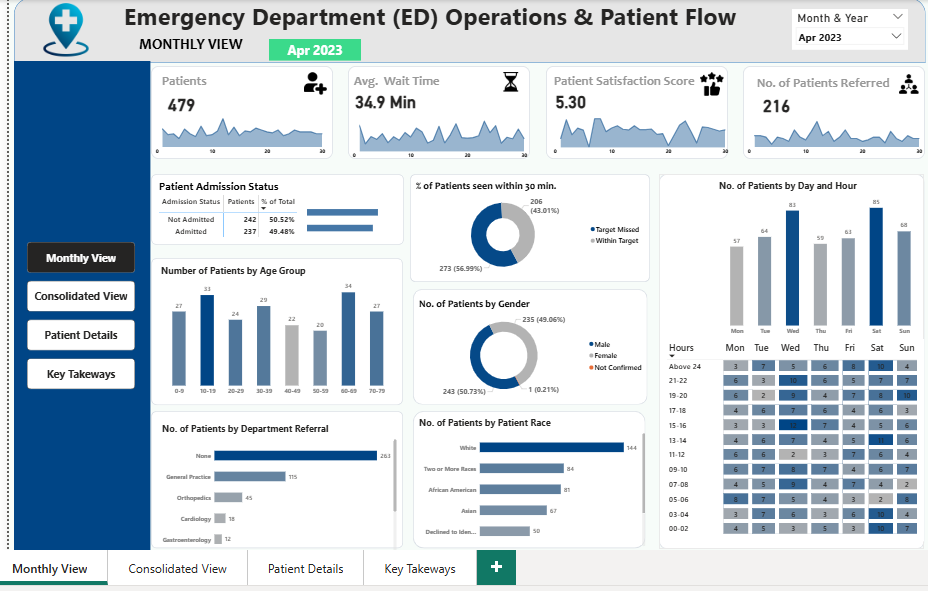

The dashboard page shown, as its layout file describes it:
{"tool":"powerbi","page":{"name":"Monthly View","canvas":[2300,1400],"ordinal":0},"visuals":[{"type":"shape","box":[11.4,0,2279.3,162.2],"z":0},{"type":"shape","box":[11.4,156.5,341.5,1243.5],"z":1000},{"type":"shape","box":[355,170,455,232.5],"z":2000},{"type":"shape","box":[318.7,0,1826.8,156.5],"z":3000},{"type":"textbox","box":[281.5,0,1635.1,93],"z":4000},{"type":"textbox","box":[320,87.5,567.5,70],"z":5000},{"type":"card","fields":{"Values":["Hospital ER_Data.No. of Patients"]},"box":[369.9,230.5,122.4,65.4],"z":6000},{"type":"slicer","fields":{"Values":["Date Table.Month & Year"]},"box":[1957.7,28.5,290.2,102.4],"z":7000},{"type":"textbox","box":[370,182.5,235,62.5],"z":9000},{"type":"areaChart","fields":{"Category":["Date Table.Date.Variation.Date Hierarchy.Day"],"Y":["Hospital ER_Data.No. of Patients"]},"box":[355,287.5,442.5,115],"z":10000},{"type":"image","box":[738.7,183.4,56.8,62],"z":11000},{"type":"card","fields":{"Values":["Min(Date Table.Month & Year)"]},"box":[650.9,103.3,229.9,54.2],"z":12000},{"type":"shape","box":[848.3,170,455,232.5],"z":13000},{"type":"card","fields":{"Values":["Hospital ER_Data.Avg. Wait Time"]},"box":[850,222.5,182.5,65],"z":14000},{"type":"textbox","box":[850,182.5,322.5,62.5],"z":15000},{"type":"areaChart","fields":{"Category":["Date Table.Date.Variation.Date Hierarchy.Day"],"Y":["Avg(Hospital ER_Data.Patient Waittime)"]},"box":[847.5,287.5,455,125],"z":16000},{"type":"shape","box":[1341.7,170,455,232.5],"z":17000},{"type":"card","fields":{"Values":["Hospital ER_Data.Satisfaction Score"]},"box":[1342.5,222.5,122.5,65],"z":18000},{"type":"textbox","box":[1350,182.5,395,50],"z":19000},{"type":"shape","box":[1835,170,455,232.5],"z":20000},{"type":"card","fields":{"Values":["Hospital ER_Data.No. of Patients Referred"]},"box":[1857.5,232.5,122.5,65],"z":21000},{"type":"textbox","box":[1857.5,187.5,405,57.5],"z":22000},{"type":"areaChart","fields":{"Category":["Date Table.Date.Variation.Date Hierarchy.Day"],"Y":["Avg(Hospital ER_Data.Patient Satisfaction Score)"]},"box":[1350,287.5,455,115],"z":23000},{"type":"areaChart","fields":{"Category":["Date Table.Date.Variation.Date Hierarchy.Day"],"Y":["Hospital ER_Data.Number of Patients Referred"]},"box":[1835,287.5,455,115],"z":24000},{"type":"shape","box":[355,440,632.5,177.5],"z":25000},{"type":"pivotTable","title":"Patient Admission Status","fields":{"Rows":["Hospital ER_Data.Admission Status"],"Values":["Hospital ER_Data.No. of Patients1","Hospital ER_Data.No. of Patients"]},"box":[370,452.5,368.8,157.5],"z":26000},{"type":"barChart","fields":{"Category":["Hospital ER_Data.Admission Status"],"Y":["Hospital ER_Data.Number of Patients Referred"]},"box":[740,493.8,247.5,116.2],"z":27000},{"type":"shape","box":[356,650,630,368],"z":28000},{"type":"clusteredColumnChart","title":"Number of Patients by Age Group","fields":{"Category":["Hospital ER_Data.Age Group"],"Y":["Hospital ER_Data.Number of Patients Referred"]},"box":[376,666,596,338],"z":29000},{"type":"shape","box":[353.9,1033.2,630.3,343.5],"z":30000},{"type":"clusteredBarChart","fields":{"Category":["Hospital ER_Data.Department Referral"],"Y":["Hospital ER_Data.No. of Patients"]},"box":[377.1,1059,596.7,341],"z":31000},{"type":"shape","box":[1002.5,440,600,270],"z":32000},{"type":"donutChart","title":"% of Patients seen within 30 min.","fields":{"Category":["Hospital ER_Data.Waittime Status"],"Y":["Hospital ER_Data.No. of Patients"]},"box":[1012.5,452.5,577.5,247.5],"z":33000},{"type":"shape","box":[1010,728.4,586.3,289.3],"z":34000},{"type":"donutChart","title":"No. of Patients by Gender","fields":{"Y":["Hospital ER_Data.No. of Patients"],"Category":["Hospital ER_Data.Patient Gender"]},"box":[1020.3,746.5,576,260.9],"z":35000},{"type":"shape","box":[1010,1033.2,581.2,343.5],"z":36000},{"type":"clusteredBarChart","fields":{"Y":["Hospital ER_Data.No. of Patients"],"Category":["Hospital ER_Data.Patient Race"]},"box":[1020.3,1046.1,576,330.6],"z":37000},{"type":"shape","box":[1624.7,439.1,663.8,937.6],"z":38000},{"type":"pivotTable","fields":{"Rows":["Hospital ER_Data.Waittime Interval"],"Columns":["Date Table.Day Name"],"Values":["Hospital ER_Data.No. of Patients"]},"box":[1640.2,852.4,648.3,506.3],"z":39000},{"type":"columnChart","title":"No. of Patients by Day and Hour","fields":{"Category":["Date Table.Day Name"],"Y":["Hospital ER_Data.No. of Patients"]},"box":[1769.4,452,519.2,400.4],"z":40000},{"type":"image","box":[1229.5,175.6,49.1,69.7],"z":41000},{"type":"image","box":[1728,183.4,59.4,64.6],"z":42000},{"type":"image","box":[2224,183.4,49.1,64.6],"z":43000},{"type":"image","box":[48.4,11.4,190.7,133.7],"z":44000},{"type":"pageNavigator","box":[45.5,608.9,270.3,369.9],"z":44001}]}

Visuals, with their boxes on the page's 2300x1400 design canvas (x1, y1, x2, y2). These are canvas units, not pixel positions in the 928x591 screenshot, which may show the page scaled, cropped or inside an application window:
shape: bbox=[11, 0, 2291, 162]
shape: bbox=[11, 156, 353, 1400]
shape: bbox=[355, 170, 810, 402]
shape: bbox=[319, 0, 2146, 156]
textbox: bbox=[282, 0, 1917, 93]
textbox: bbox=[320, 88, 888, 158]
card - Hospital ER_Data.No. of Patients: bbox=[370, 230, 492, 296]
slicer - Date Table.Month & Year: bbox=[1958, 28, 2248, 131]
textbox: bbox=[370, 182, 605, 245]
areaChart - Date Table.Date.Variation.Date Hierarchy.Day x Hospital ER_Data.No. of Patients: bbox=[355, 288, 798, 402]
image: bbox=[739, 183, 796, 245]
card - Min(Date Table.Month & Year): bbox=[651, 103, 881, 158]
shape: bbox=[848, 170, 1303, 402]
card - Hospital ER_Data.Avg. Wait Time: bbox=[850, 222, 1032, 288]
textbox: bbox=[850, 182, 1172, 245]
areaChart - Date Table.Date.Variation.Date Hierarchy.Day x Avg(Hospital ER_Data.Patient Waittime): bbox=[848, 288, 1302, 412]
shape: bbox=[1342, 170, 1797, 402]
card - Hospital ER_Data.Satisfaction Score: bbox=[1342, 222, 1465, 288]
textbox: bbox=[1350, 182, 1745, 232]
shape: bbox=[1835, 170, 2290, 402]
card - Hospital ER_Data.No. of Patients Referred: bbox=[1858, 232, 1980, 298]
textbox: bbox=[1858, 188, 2262, 245]
areaChart - Date Table.Date.Variation.Date Hierarchy.Day x Avg(Hospital ER_Data.Patient Satisfaction Score): bbox=[1350, 288, 1805, 402]
areaChart - Date Table.Date.Variation.Date Hierarchy.Day x Hospital ER_Data.Number of Patients Referred: bbox=[1835, 288, 2290, 402]
shape: bbox=[355, 440, 988, 618]
"Patient Admission Status" pivotTable: bbox=[370, 452, 739, 610]
barChart - Hospital ER_Data.Admission Status x Hospital ER_Data.Number of Patients Referred: bbox=[740, 494, 988, 610]
shape: bbox=[356, 650, 986, 1018]
"Number of Patients by Age Group" clusteredColumnChart: bbox=[376, 666, 972, 1004]
shape: bbox=[354, 1033, 984, 1377]
clusteredBarChart - Hospital ER_Data.Department Referral x Hospital ER_Data.No. of Patients: bbox=[377, 1059, 974, 1400]
shape: bbox=[1002, 440, 1602, 710]
"% of Patients seen within 30 min." donutChart: bbox=[1012, 452, 1590, 700]
shape: bbox=[1010, 728, 1596, 1018]
"No. of Patients by Gender" donutChart: bbox=[1020, 746, 1596, 1007]
shape: bbox=[1010, 1033, 1591, 1377]
clusteredBarChart - Hospital ER_Data.No. of Patients x Hospital ER_Data.Patient Race: bbox=[1020, 1046, 1596, 1377]
shape: bbox=[1625, 439, 2288, 1377]
pivotTable - Hospital ER_Data.Waittime Interval x Date Table.Day Name: bbox=[1640, 852, 2288, 1359]
"No. of Patients by Day and Hour" columnChart: bbox=[1769, 452, 2289, 852]
image: bbox=[1230, 176, 1279, 245]
image: bbox=[1728, 183, 1787, 248]
image: bbox=[2224, 183, 2273, 248]
image: bbox=[48, 11, 239, 145]
pageNavigator: bbox=[46, 609, 316, 979]
